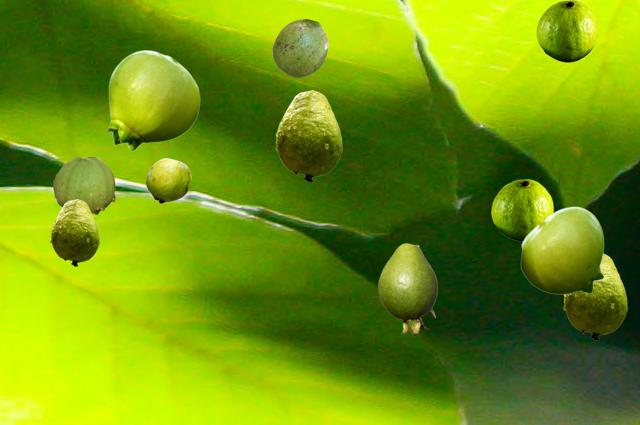guava: (107, 50, 199, 150), (520, 206, 603, 293), (275, 90, 341, 181), (563, 253, 626, 339), (378, 243, 436, 334), (536, 0, 597, 61), (491, 179, 552, 240), (53, 156, 114, 215), (50, 199, 98, 265), (272, 19, 327, 76), (146, 158, 190, 202)
